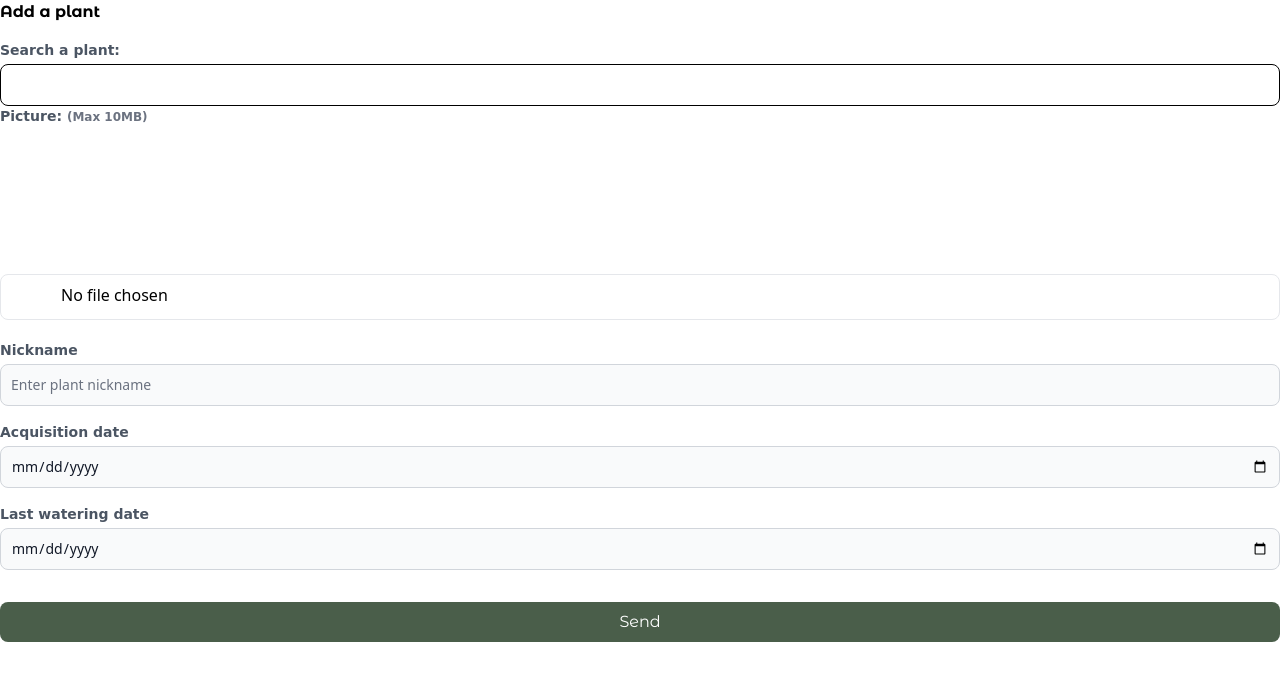
Test: should show plant suggestions when typing
Type "Pot" into the dropdown labelled "Search a plant:" at [640, 85], box [0, 64, 1279, 106]
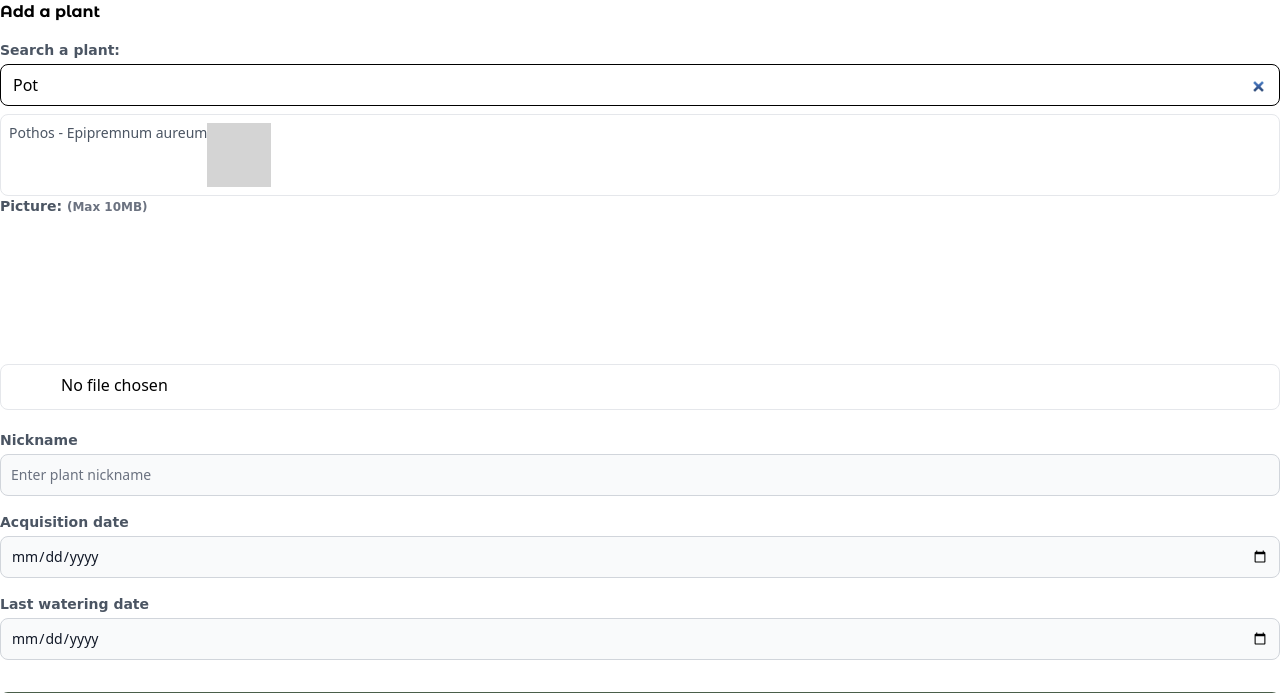
Now the text "Pothos - Epipremnum aureum" is shown, box [9, 123, 271, 187]
